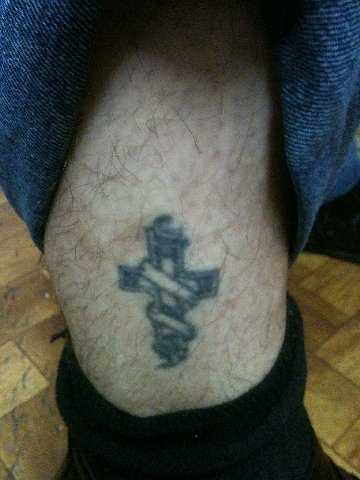tatu9_krest: (114, 205, 225, 382)
